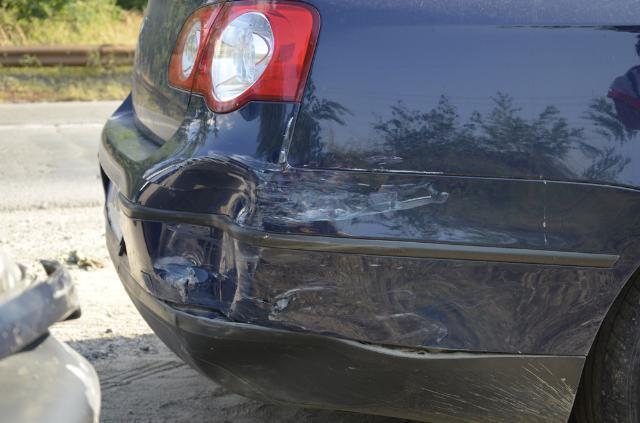dent: (132, 158, 257, 315), (193, 338, 356, 404), (272, 297, 434, 342)
scratch: (252, 166, 454, 228)
